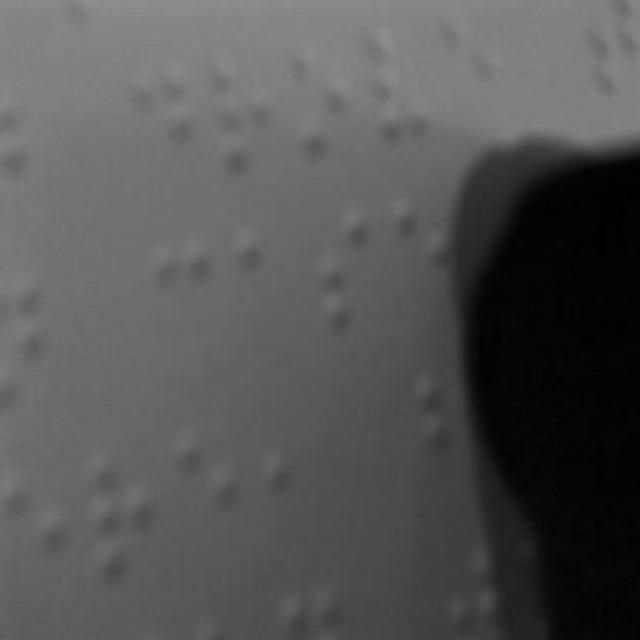braiile: (80, 442, 166, 582), (172, 419, 252, 565), (285, 35, 361, 173), (146, 226, 222, 362), (262, 410, 334, 548), (364, 18, 438, 152), (442, 16, 512, 150), (393, 182, 459, 322), (206, 49, 278, 175), (232, 223, 302, 349), (320, 212, 382, 338), (132, 53, 192, 171)
